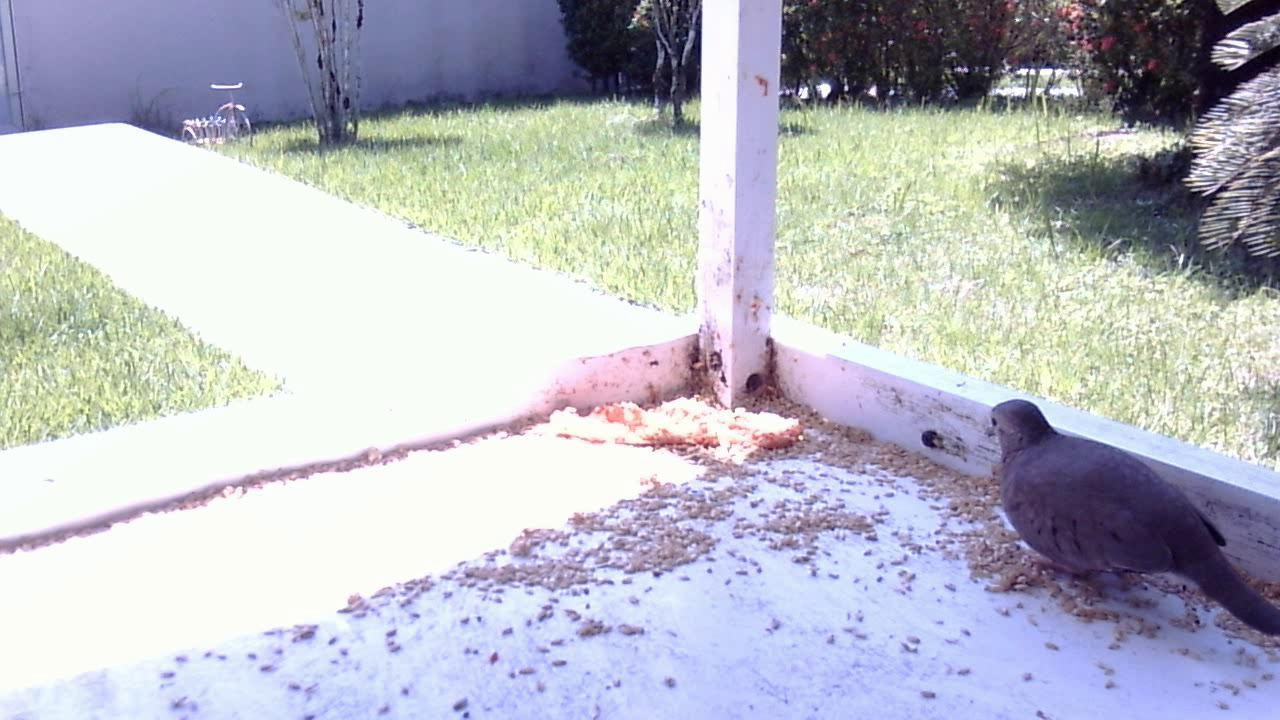rolinha: (974, 392, 1280, 650)
